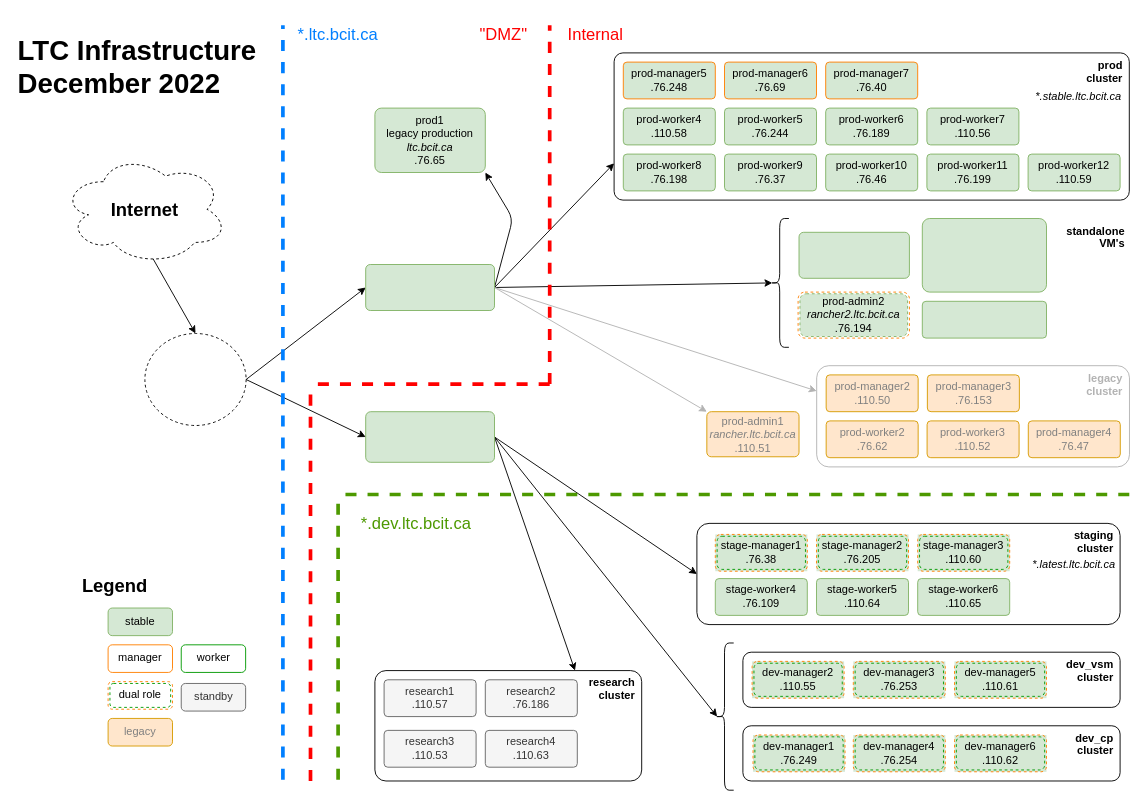
Image size: 1147x806. Some labels were removed from this diagram. The centre of each missing label's shape, as x and y in pixels:
dev-gate3 *.dev.ltc.bcit.ca .110.54: (x=429, y=436)
ITS DNS: (x=195, y=379)
prod-gate2 *.ltc.bcit.ca .76.35: (x=429, y=287)
prod4 GitLab VCS issues.ltc.bcit.ca mattermost.ltc.bcit.ca .76.41: (x=983, y=255)
utility1 .110.66: (x=983, y=319)
vault1 vault.ltc.bcit.ca .76.63: (x=853, y=254)
